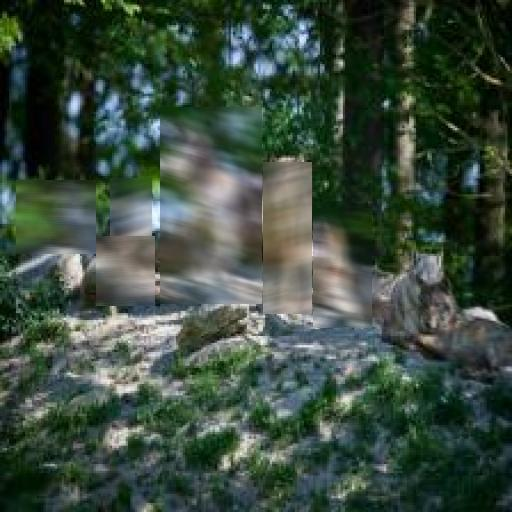wolf: (160, 107, 262, 304), (423, 274, 512, 397), (263, 162, 312, 314), (313, 208, 372, 328), (16, 180, 96, 254), (96, 236, 155, 306), (110, 178, 152, 238)
